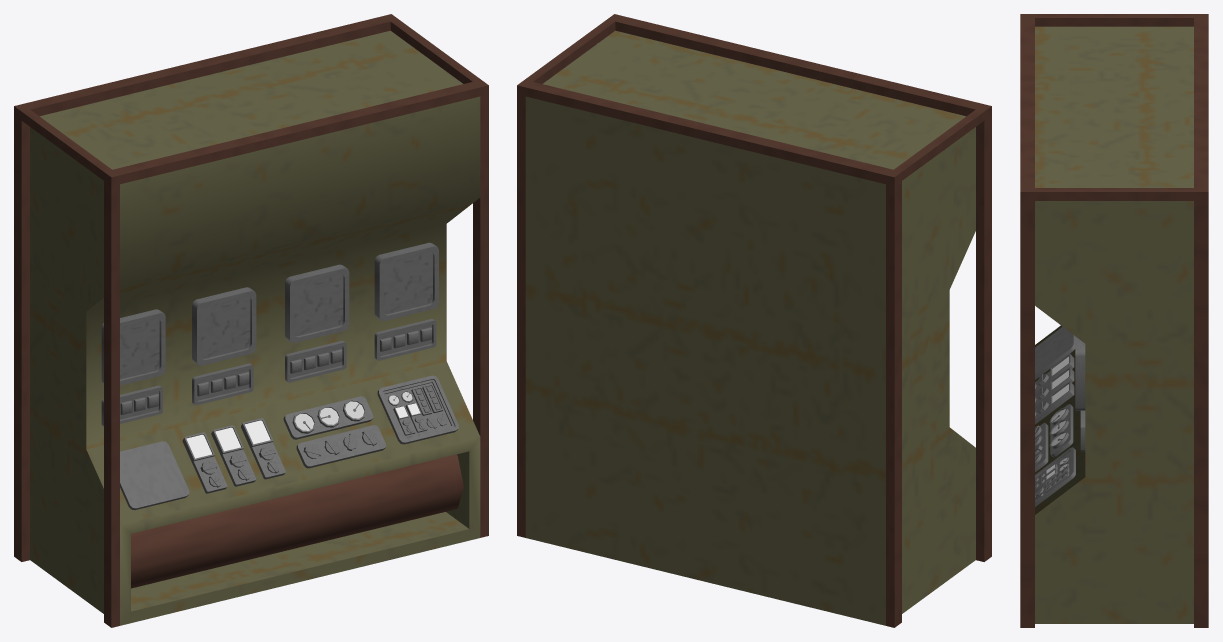
Rendered from Computer.fbx.
3 renders of one model, left to right at view 1: azimuth 30°, elevation 25°; view 2: azimuth 150°, elevation 25°; view 3: azimuth 270°, elevation 25°, orthographic. The views are drawn at different scales.
Visible parts, largest first — view 1: Cube.070; view 2: Cube.070; view 3: Cube.070.
Part boxes in pixels (x1,y1,x2,y2): Cube.070: [14, 14, 488, 627]; Cube.070: [517, 14, 991, 627]; Cube.070: [1020, 14, 1208, 627].
Bounding box in the file's own units: 324 × 370 × 145.
